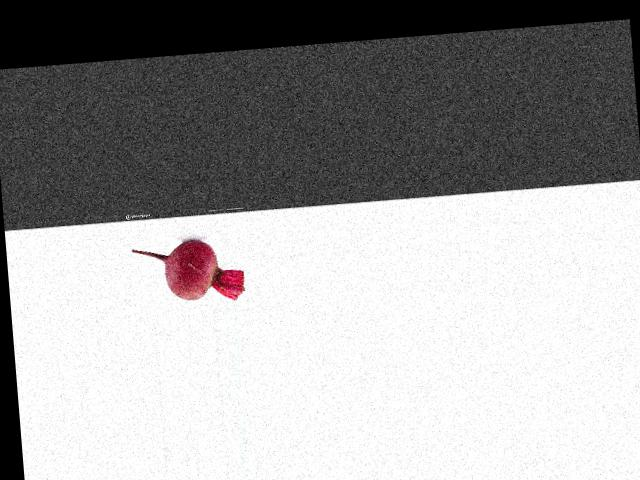beet: (132, 236, 246, 306)
